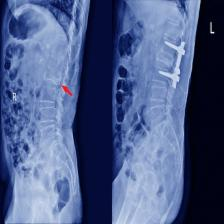impacted-fracture: (1, 0, 202, 224)
